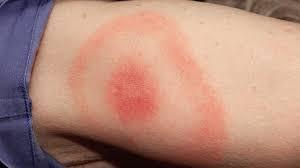Tick: (108, 58, 159, 123)
